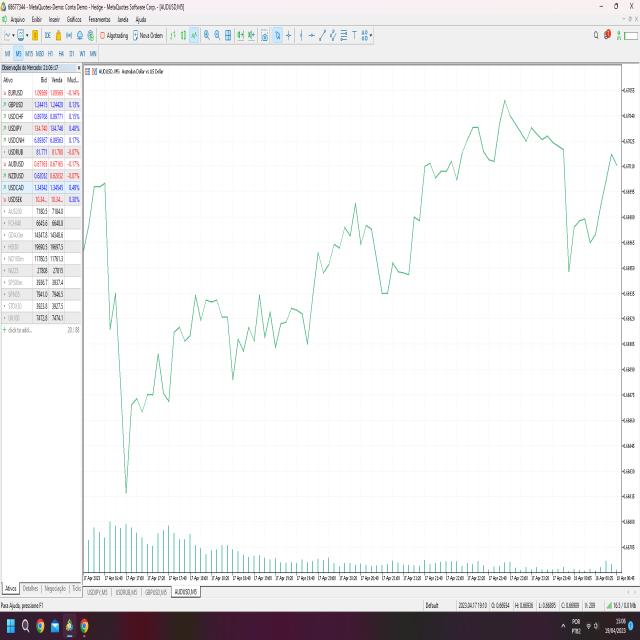oco: (243, 274, 277, 365)
